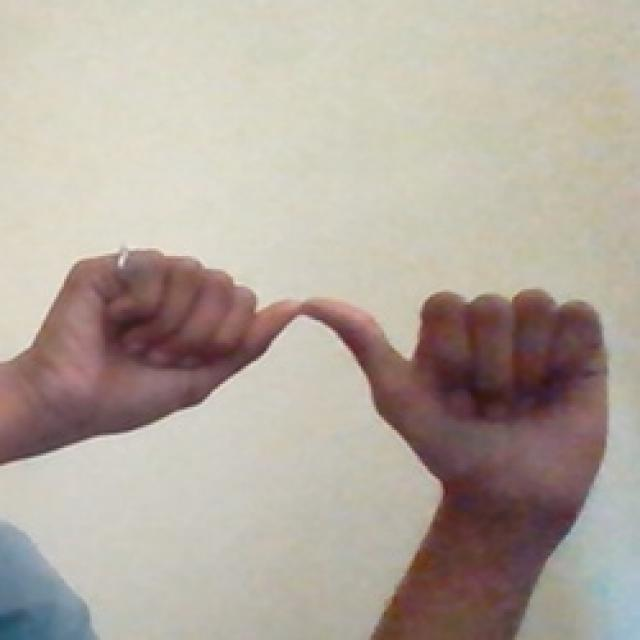Alphabet-A: (36, 232, 613, 500)
